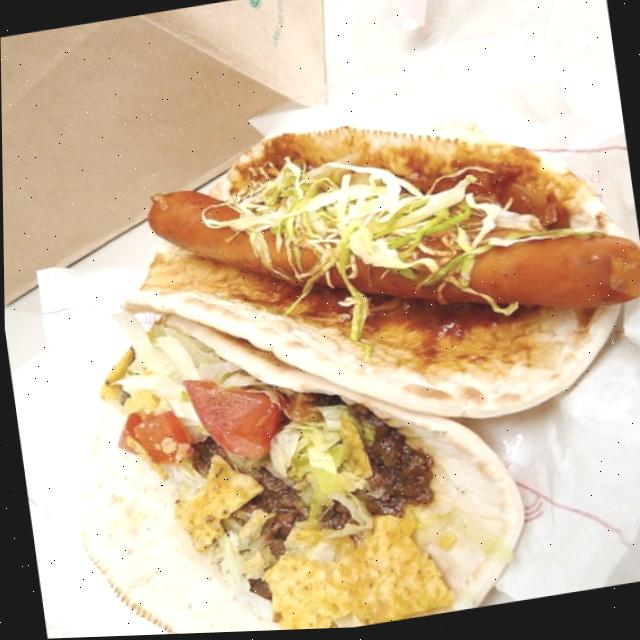面包点心: (1, 68, 640, 640)
